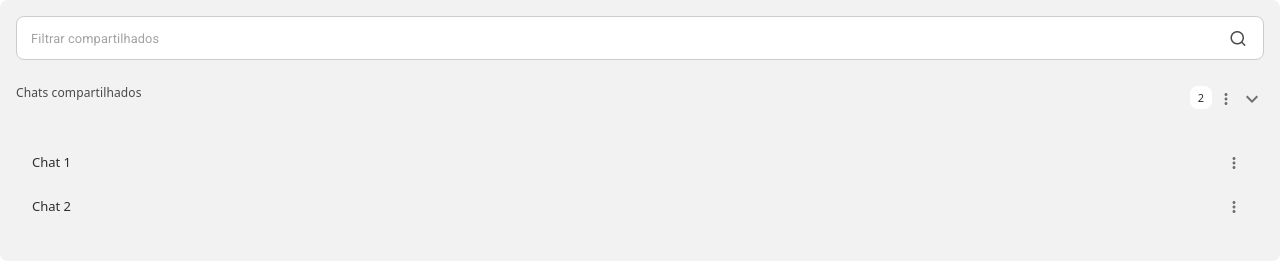
Sharing Component › filtra chats corretamente
The image size is (1280, 278).
Check: the text "Chat 1" is shown, box x1=32 y1=153 x2=71 y2=171
Check: the text "Chat 2" is shown, box x1=32 y1=197 x2=71 y2=215
Type "Chat 1" into the search field with placeholder "Filtrar compartilhados". click: (619, 38)
box: x1=17 y1=12 x2=1221 y2=64
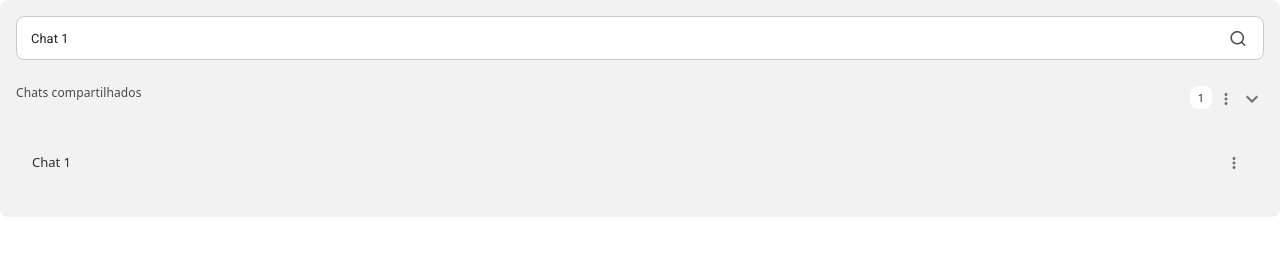
Check: the text "Chat 1" is shown, box x1=32 y1=153 x2=71 y2=171
Check: the button "Chat 2" is gone
